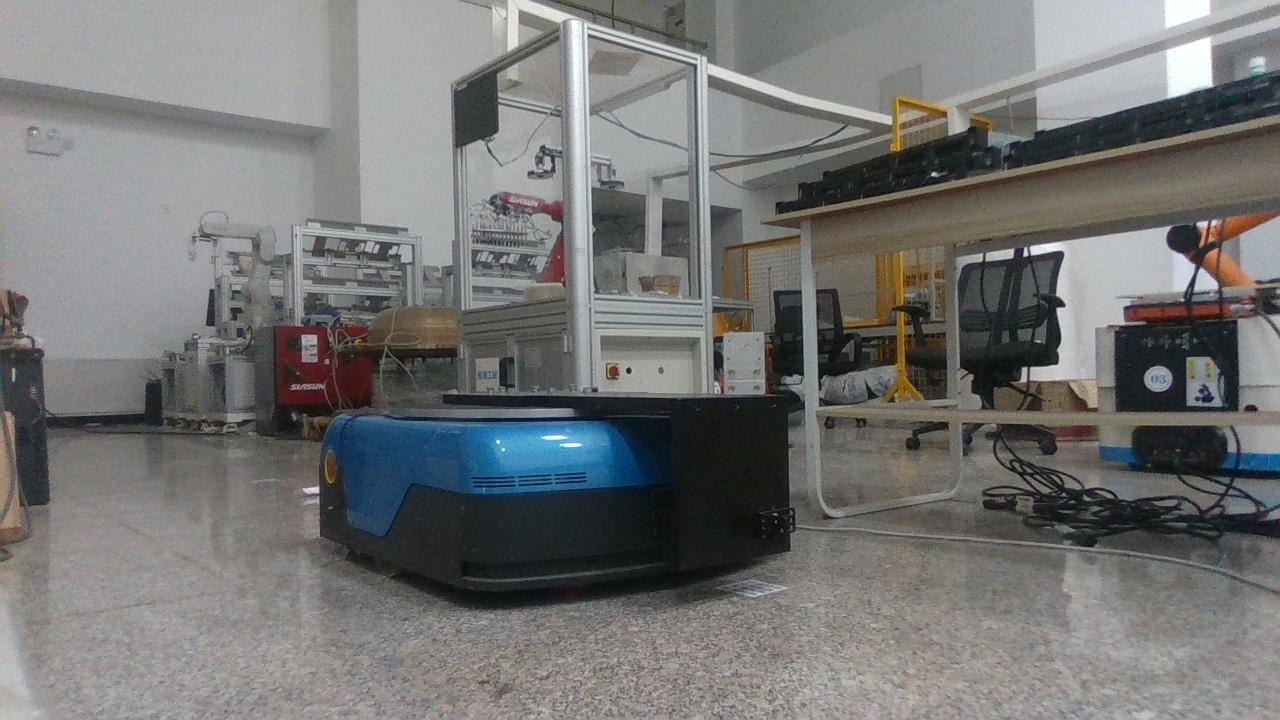AGV: (320, 394, 797, 589)
